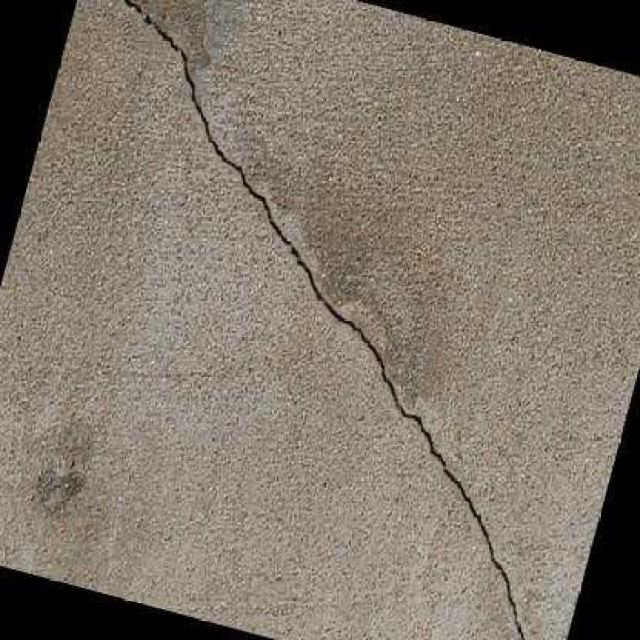D00: (125, 0, 530, 640)
